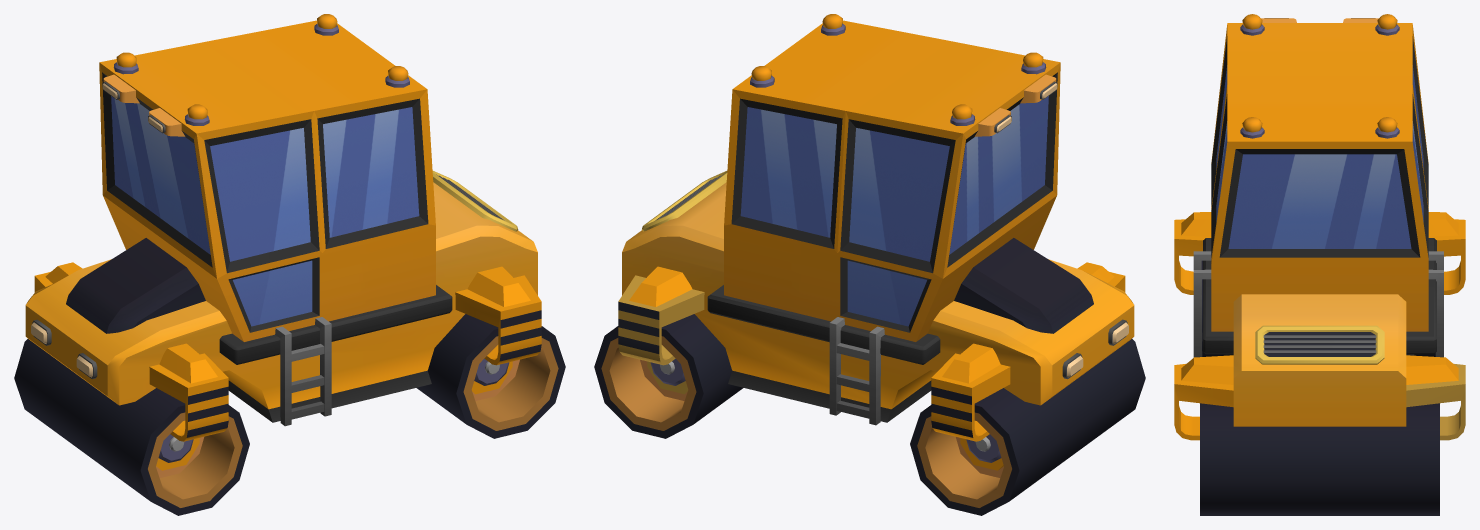
The model's file is RoadRoller .fbx.
3 views of the same model, side by side, from view 1: azimuth 30°, elevation 25°; view 2: azimuth 150°, elevation 25°; view 3: azimuth 270°, elevation 25° (orthographic). The views are drawn at different scales.
Visible parts, largest first — view 1: RoadRoller, FrontWheel, BackWheel, Turning; view 2: RoadRoller, FrontWheel, BackWheel, Turning; view 3: RoadRoller, BackWheel, Turning.
Part boxes in pixels (box(x1,y1,x2,y2)): RoadRoller: box(25, 14, 541, 426); FrontWheel: box(14, 339, 249, 515); BackWheel: box(416, 314, 565, 438); Turning: box(34, 262, 228, 470); RoadRoller: box(618, 14, 1134, 425); FrontWheel: box(910, 339, 1145, 515); BackWheel: box(594, 314, 743, 438); Turning: box(931, 262, 1125, 470); RoadRoller: box(1174, 14, 1465, 440); BackWheel: box(1200, 403, 1439, 515); Turning: box(1174, 212, 1465, 294).
Size of the model in its own units: 429 by 350 by 257.
